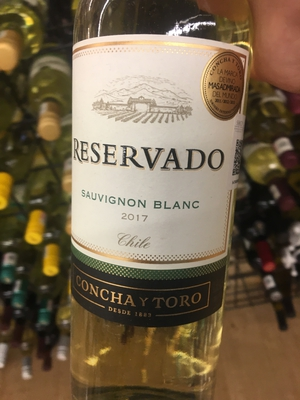reservado sauvignon blanc: (67, 6, 257, 400)
